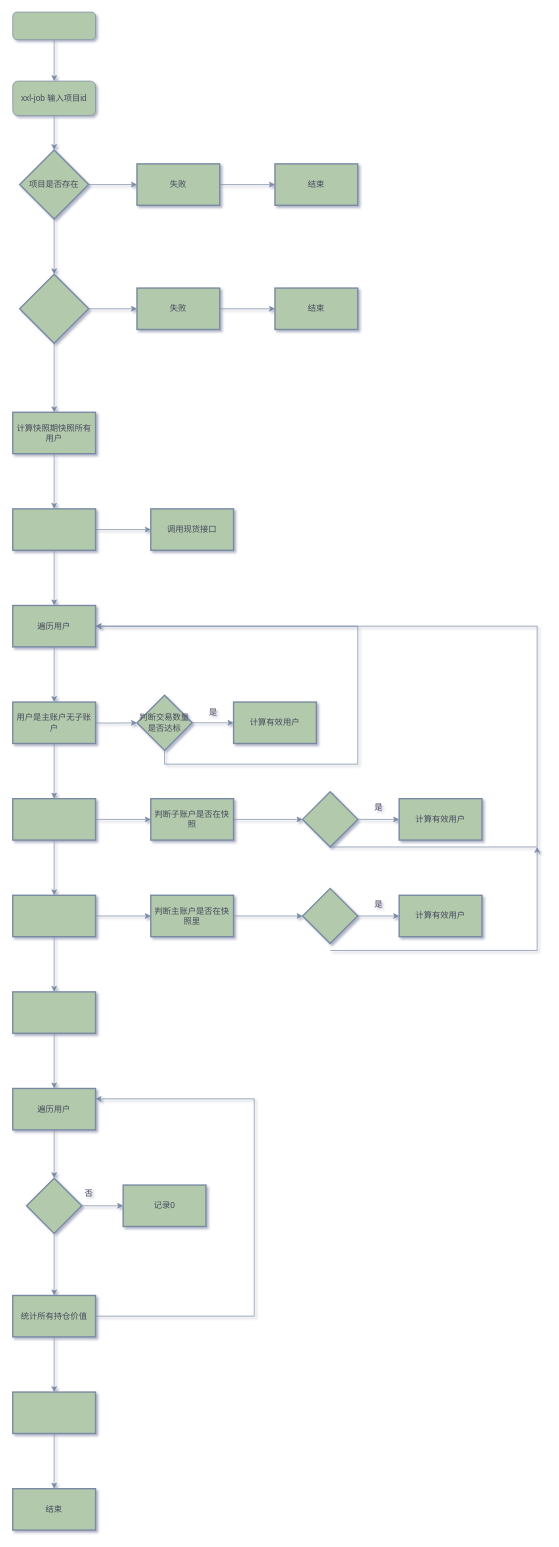
Some shapes in this 559 by 1547 pixel diagram are drawn without their labels. Here are the shapes that lost their labels. From the top down, the centre of each, then its label:
At (x=54, y=25): "开始".
At (x=54, y=308): "判断时间是否在额度计算时间内".
At (x=54, y=529): "排除做市等账户".
At (x=54, y=819): "用户是主账户有子账户".
At (x=330, y=819): "判断交易是否达表".
At (x=54, y=915): "用户是子账户".
At (x=330, y=915): "判断交易是否达标".
At (x=54, y=1012): "计算出有效的用户".
At (x=54, y=1205): "判断持仓数量是否达标".
At (x=54, y=1412): "保存用户额度 之前保存的数据逻辑删除".
